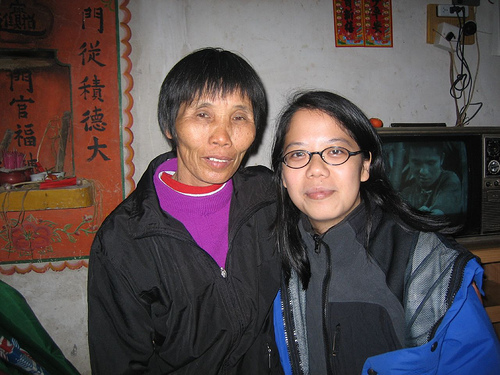without_mask: (268, 97, 401, 227), (156, 56, 271, 195)
